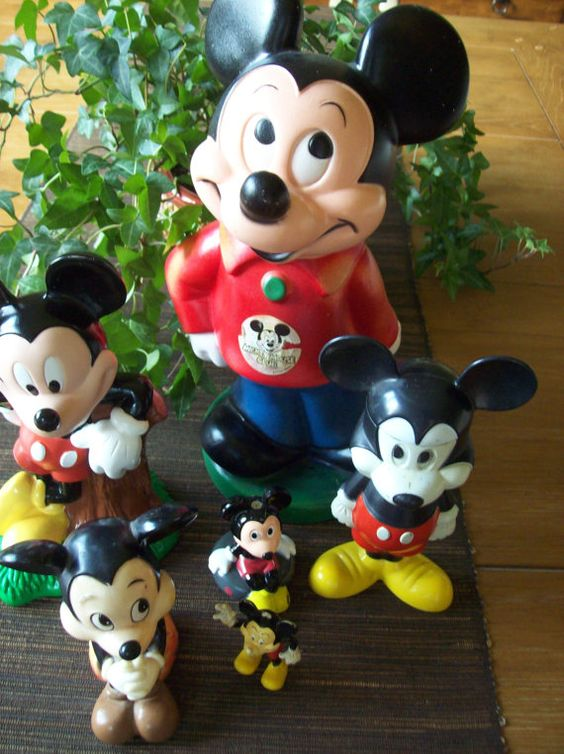Mickey: (187, 1, 470, 267), (319, 327, 538, 511), (1, 246, 129, 441)
